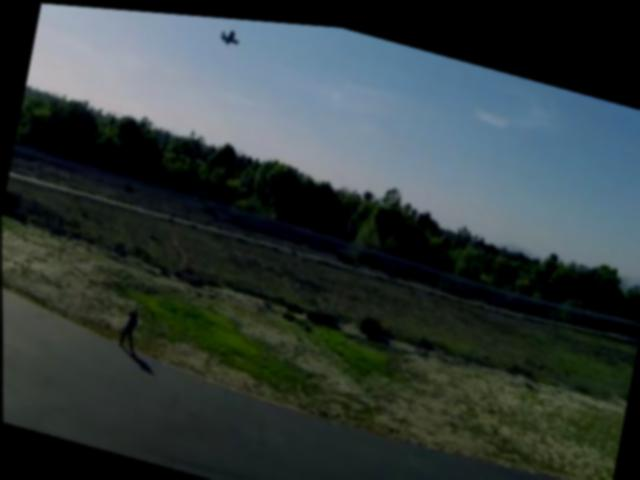iha: (209, 17, 246, 49)
